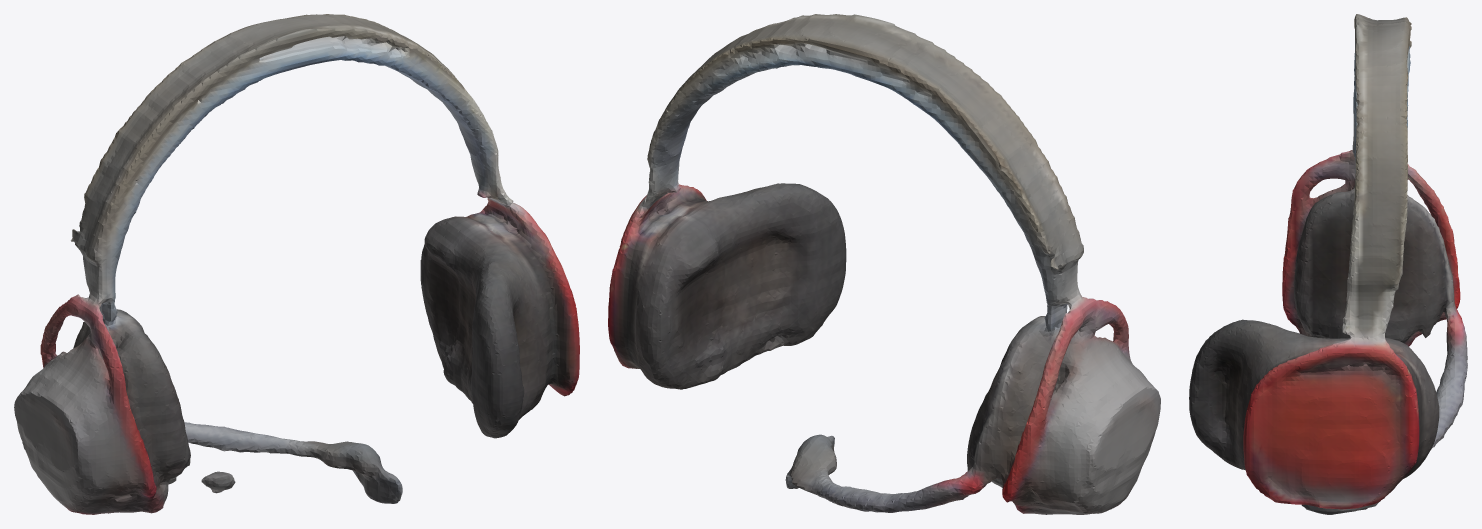
3 views of the same model, side by side, from view 1: azimuth 30°, elevation 25°; view 2: azimuth 150°, elevation 25°; view 3: azimuth 270°, elevation 25° (orthographic). The views are drawn at different scales.
Visible parts, largest first — view 1: world; view 2: world; view 3: world.
Part boxes in pixels (left/top/right/bottom): world: left=14, top=14, right=579, bottom=514; world: left=608, top=14, right=1160, bottom=514; world: left=1189, top=14, right=1467, bottom=514.
Size of the model in its own units: 1.93 by 1.78 by 1.
